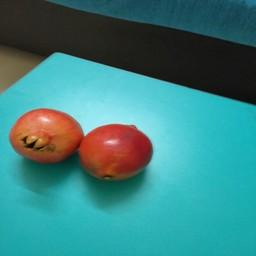pomegranate: (77, 124, 154, 180), (10, 108, 85, 162)
